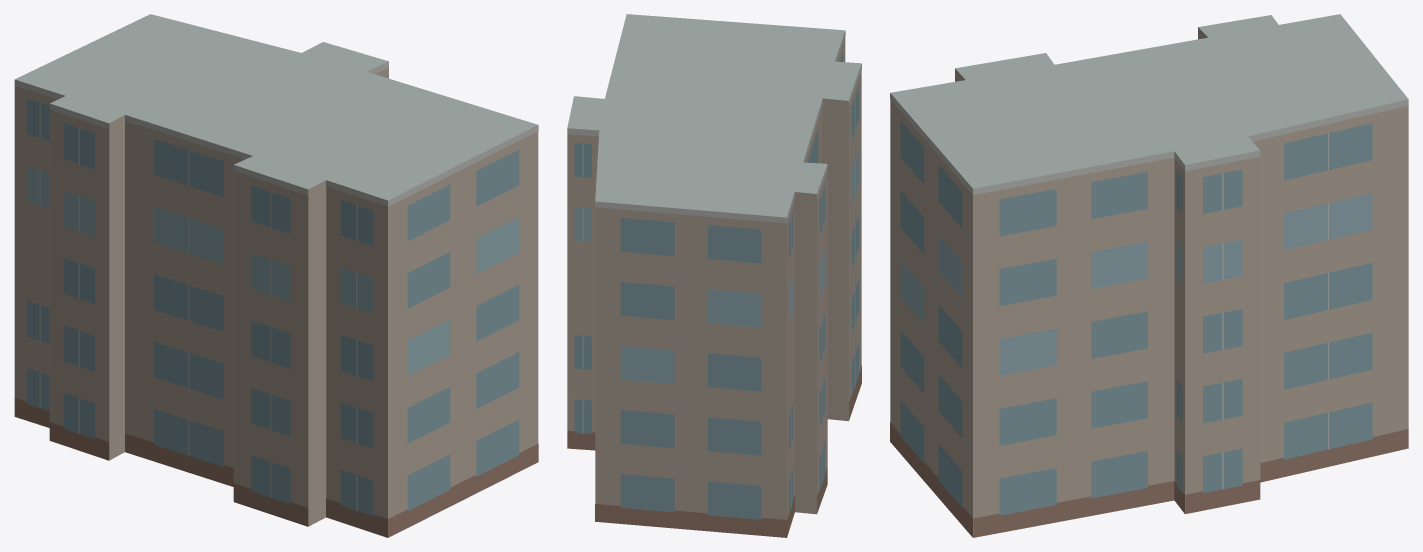
File: survey-upis-32964257.glb
3 views of the same model, side by side, from view 1: azimuth 30°, elevation 25°; view 2: azimuth 150°, elevation 25°; view 3: azimuth 270°, elevation 25° (orthographic). The views are drawn at different scales.
Visible parts, largest first — view 1: survey-upis-32964257.tmp; view 2: survey-upis-32964257.tmp; view 3: survey-upis-32964257.tmp.
Part boxes in pixels (bbox=[...]): survey-upis-32964257.tmp: bbox=[14, 14, 538, 537]; survey-upis-32964257.tmp: bbox=[567, 14, 861, 537]; survey-upis-32964257.tmp: bbox=[890, 14, 1408, 537].
Bounding box in the file's own units: 14.43 × 13.42 × 18.08.
